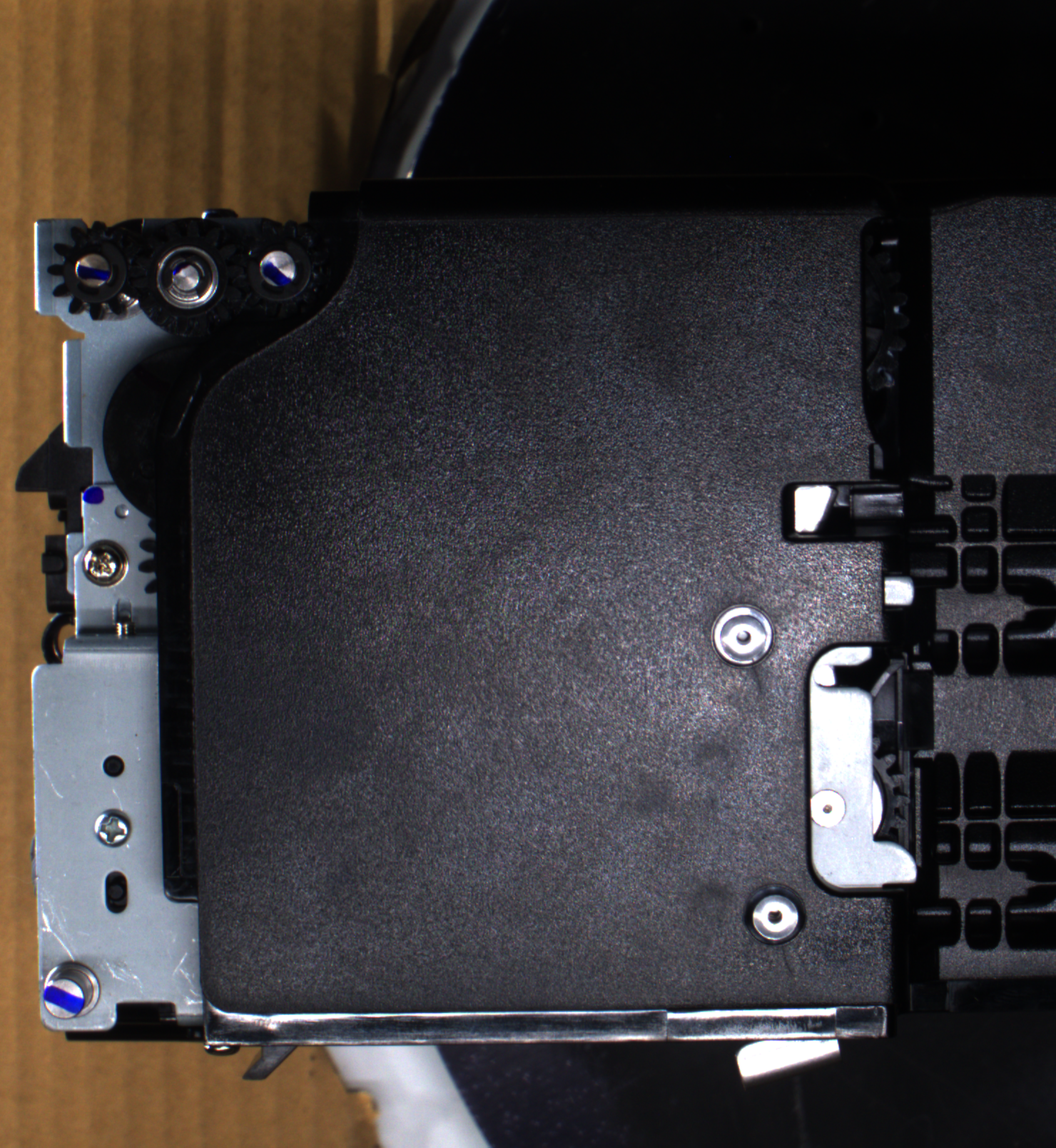centre_pin_presence: (728, 1020, 850, 1087)
centre_plate_presence: (798, 637, 928, 903)
centre_screw_presence: (707, 596, 781, 674), (737, 876, 810, 951)
gear1_presence: (44, 217, 144, 322)
gear2_presence: (130, 215, 246, 338)
gear3_presence: (228, 217, 328, 324)
side_screw_presence: (78, 537, 131, 588), (90, 807, 134, 849)
slanting_pin_presence: (36, 956, 109, 1028)
